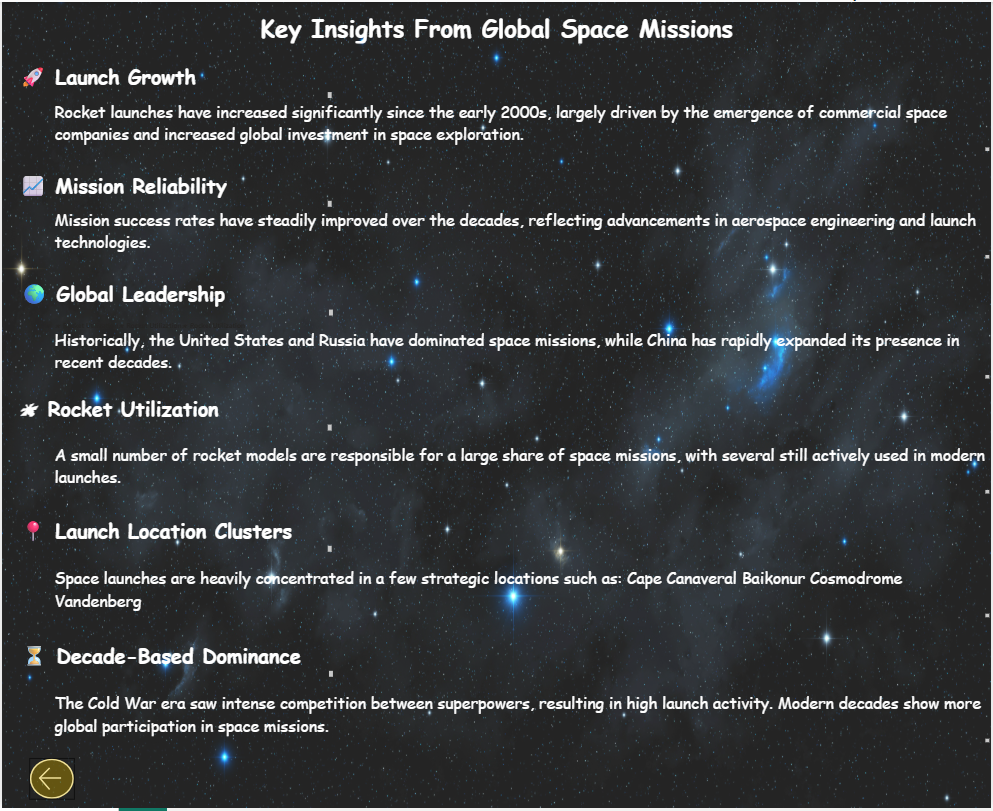

Layout of this report page (visuals, bound fields, positions):
{"tool":"powerbi","page":{"name":"Key Insights","canvas":[2000,1629],"ordinal":1},"visuals":[{"type":"textbox","title":"Key Insights From Global Space Missions","box":[352.9,18.2,1292.1,103.8],"z":0},{"type":"textbox","title":"🚀 Launch Growth","box":[31.1,121.9,640.9,77.8],"z":1000},{"type":"textbox","title":"Rocket launches have increased significantly since the early 2000s, largely driven by the emergence of commercial space companies and increased global investment in space exploration.","box":[101.2,199.8,1899.2,106.4],"z":2000},{"type":"textbox","title":"📈  Mission Reliability","box":[31.1,339.9,640.9,77.8],"z":3000},{"type":"textbox","title":"Historically, the United States and Russia have dominated space missions, while China has rapidly expanded its presence in recent decades.","box":[101.2,659,1899.2,106.4],"z":4000},{"type":"textbox","title":"🛰 Rocket Utilization","box":[31.1,793.9,640.9,77.8],"z":5000},{"type":"textbox","title":"🌍 Global Leadership","box":[33.7,560.4,640.9,77.8],"z":6000},{"type":"textbox","box":[101.2,638.3,1899.2,96],"z":7000},{"type":"textbox","title":"Mission success rates have steadily improved over the decades, reflecting advancements in aerospace engineering and launch technologies.","box":[101.2,417.7,1899.2,106.4],"z":8000},{"type":"textbox","title":"A small number of rocket models are responsible for a large share of space missions, with several still actively used in modern launches.","box":[101.2,892.5,1899.2,106.4],"z":9000},{"type":"textbox","title":"📍 Launch Location Clusters","box":[31.1,1037.8,640.9,77.8],"z":10000},{"type":"textbox","title":"Space launches are heavily concentrated in a few strategic locations such as:  Cape Canaveral Baikonur Cosmodrome Vandenberg","box":[101.2,1141.6,1899.2,106.4],"z":11000},{"type":"textbox","title":"⏳ Decade-Based Dominance","box":[33.7,1292.1,640.9,77.8],"z":12000},{"type":"textbox","title":"The Cold War era saw intense competition between superpowers, resulting in high launch activity. Modern decades show more global participation in space missions.","box":[101.2,1393.3,1899.2,106.4],"z":13000},{"type":"actionButton","box":[54.5,1528.2,90.8,83],"z":14000}]}

Visuals, with their boxes in screenshot pixels (x1, y1, x2, y2), scaled from the page's 2000x1629 canvas onto the 993x811 screenshot:
"Key Insights From Global Space Missions" textbox: x1=175 y1=9 x2=817 y2=61
"🚀 Launch Growth" textbox: x1=15 y1=61 x2=334 y2=99
"Rocket launches have increased significantly since the early 2000s, largely driven by the emergence of commercial space companies and increased global investment in space exploration." textbox: x1=50 y1=99 x2=992 y2=152
"📈  Mission Reliability" textbox: x1=15 y1=169 x2=334 y2=208
"Historically, the United States and Russia have dominated space missions, while China has rapidly expanded its presence in recent decades." textbox: x1=50 y1=328 x2=992 y2=381
"🛰 Rocket Utilization" textbox: x1=15 y1=395 x2=334 y2=434
"🌍 Global Leadership" textbox: x1=17 y1=279 x2=335 y2=318
textbox: x1=50 y1=318 x2=992 y2=366
"Mission success rates have steadily improved over the decades, reflecting advancements in aerospace engineering and launch technologies." textbox: x1=50 y1=208 x2=992 y2=261
"A small number of rocket models are responsible for a large share of space missions, with several still actively used in modern launches." textbox: x1=50 y1=444 x2=992 y2=497
"📍 Launch Location Clusters" textbox: x1=15 y1=517 x2=334 y2=555
"Space launches are heavily concentrated in a few strategic locations such as:  Cape Canaveral Baikonur Cosmodrome Vandenberg" textbox: x1=50 y1=568 x2=992 y2=621
"⏳ Decade-Based Dominance" textbox: x1=17 y1=643 x2=335 y2=682
"The Cold War era saw intense competition between superpowers, resulting in high launch activity. Modern decades show more global participation in space missions." textbox: x1=50 y1=694 x2=992 y2=747
actionButton: x1=27 y1=761 x2=72 y2=802
